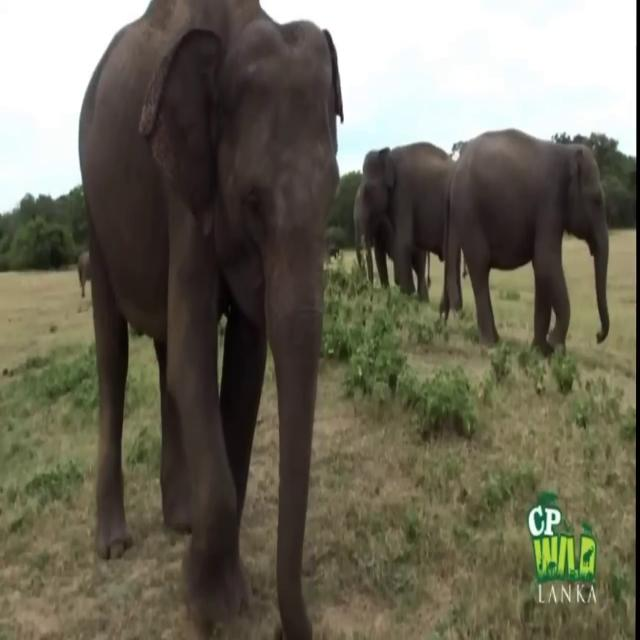Elephant: (77, 0, 344, 638), (440, 126, 610, 356), (353, 140, 461, 314), (77, 250, 91, 298)
